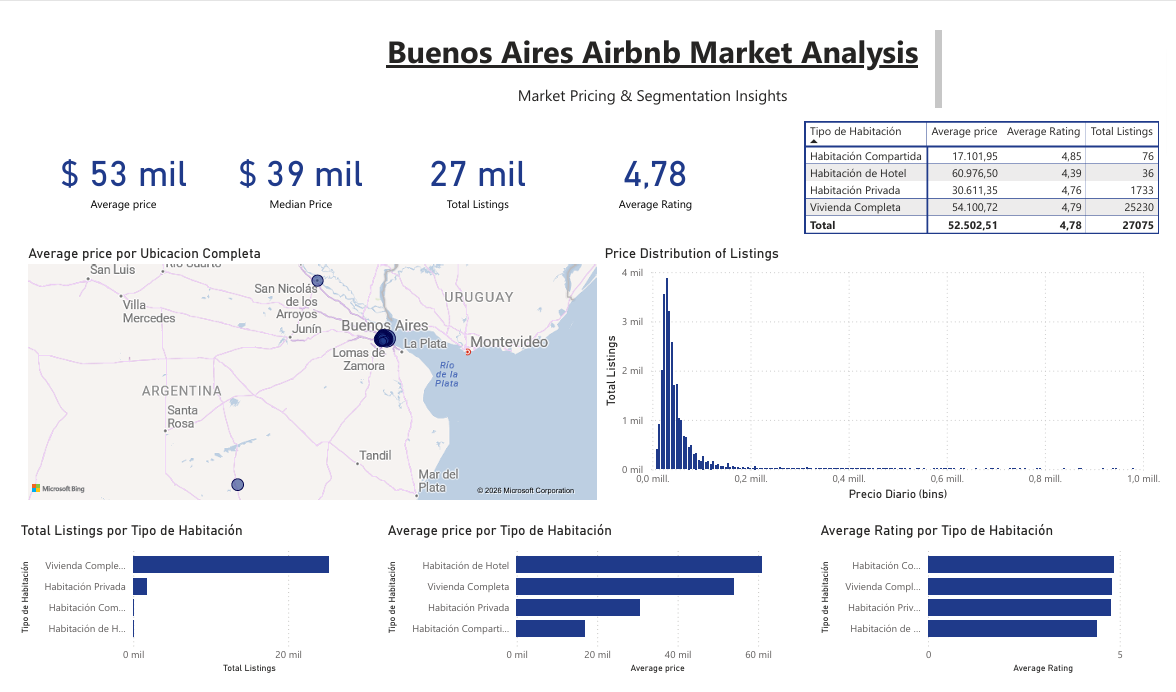

Layout of this report page (visuals, bound fields, positions):
{"tool":"powerbi","page":{"name":"Página 1","canvas":[1400,800],"ordinal":0},"visuals":[{"type":"card","fields":{"Values":["25 11_Base_de_Datos_-_AirBnB.Average price"]},"box":[22,144.7,215.9,90.9],"z":0},{"type":"card","fields":{"Values":["25 11_Base_de_Datos_-_AirBnB.Average Rating"]},"box":[669.7,144.7,215.9,90.9],"z":1000},{"type":"card","fields":{"Values":["25 11_Base_de_Datos_-_AirBnB.Median Price"]},"box":[237.9,144.7,215.9,90.9],"z":2000},{"type":"card","fields":{"Values":["25 11_Base_de_Datos_-_AirBnB.Total Listings"]},"box":[453.8,144.7,215,90.9],"z":3000},{"type":"columnChart","title":"Price Distribution of Listings","fields":{"Category":["25 11_Base_de_Datos_-_AirBnB.Precio Diario (ubicaciones)"],"Y":["25 11_Base_de_Datos_-_AirBnB.Total Listings"]},"box":[711.4,272.7,688.6,315.9],"z":4000},{"type":"barChart","fields":{"Category":["25 11_Base_de_Datos_-_AirBnB.Tipo de Habitación"],"Y":["25 11_Base_de_Datos_-_AirBnB.Average price"]},"box":[447.5,610.2,526.8,189.2],"z":5000},{"type":"barChart","fields":{"Category":["25 11_Base_de_Datos_-_AirBnB.Tipo de Habitación"],"Y":["25 11_Base_de_Datos_-_AirBnB.Total Listings"]},"box":[0,610.2,447.5,189.2],"z":6000},{"type":"barChart","fields":{"Category":["25 11_Base_de_Datos_-_AirBnB.Tipo de Habitación"],"Y":["25 11_Base_de_Datos_-_AirBnB.Average Rating"]},"box":[974.2,610.2,425.1,189.2],"z":7000},{"type":"pivotTable","fields":{"Rows":["25 11_Base_de_Datos_-_AirBnB.Tipo de Habitación"],"Values":["25 11_Base_de_Datos_-_AirBnB.Average price","25 11_Base_de_Datos_-_AirBnB.Average Rating","25 11_Base_de_Datos_-_AirBnB.Total Listings"]},"box":[954.5,118.2,445.5,154.5],"z":8000},{"type":"map","fields":{"Size":["25 11_Base_de_Datos_-_AirBnB.Average price"],"Category":["25 11_Base_de_Datos_-_AirBnB.Ubicacion Completa"]},"box":[9.1,272.7,702.3,315.9],"z":8001},{"type":"textbox","box":[425,6.8,706.8,111.4],"z":8002}]}

Visuals, with their boxes in screenshot pixels (x1, y1, x2, y2), scaled from the page's 1400x800 canvas onto the 1176x692 screenshot:
card - 25 11_Base_de_Datos_-_AirBnB.Average price: [left=18, top=125, right=200, bottom=204]
card - 25 11_Base_de_Datos_-_AirBnB.Average Rating: [left=563, top=125, right=744, bottom=204]
card - 25 11_Base_de_Datos_-_AirBnB.Median Price: [left=200, top=125, right=381, bottom=204]
card - 25 11_Base_de_Datos_-_AirBnB.Total Listings: [left=381, top=125, right=562, bottom=204]
"Price Distribution of Listings" columnChart: [left=598, top=236, right=1175, bottom=509]
barChart - 25 11_Base_de_Datos_-_AirBnB.Tipo de Habitación x 25 11_Base_de_Datos_-_AirBnB.Average price: [left=376, top=528, right=818, bottom=691]
barChart - 25 11_Base_de_Datos_-_AirBnB.Tipo de Habitación x 25 11_Base_de_Datos_-_AirBnB.Total Listings: [left=0, top=528, right=376, bottom=691]
barChart - 25 11_Base_de_Datos_-_AirBnB.Tipo de Habitación x 25 11_Base_de_Datos_-_AirBnB.Average Rating: [left=818, top=528, right=1175, bottom=691]
pivotTable - 25 11_Base_de_Datos_-_AirBnB.Tipo de Habitación x 25 11_Base_de_Datos_-_AirBnB.Average price: [left=802, top=102, right=1175, bottom=236]
map - 25 11_Base_de_Datos_-_AirBnB.Average price x 25 11_Base_de_Datos_-_AirBnB.Ubicacion Completa: [left=8, top=236, right=598, bottom=509]
textbox: [left=357, top=6, right=951, bottom=102]
